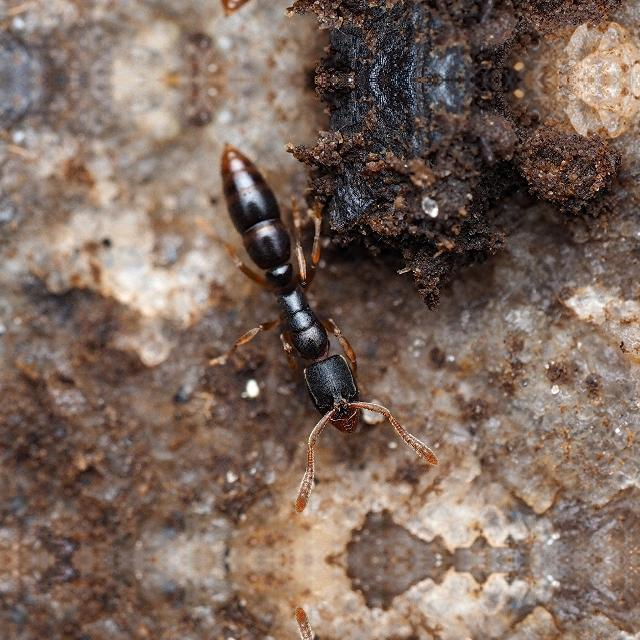Ponera: (186, 106, 446, 487)
